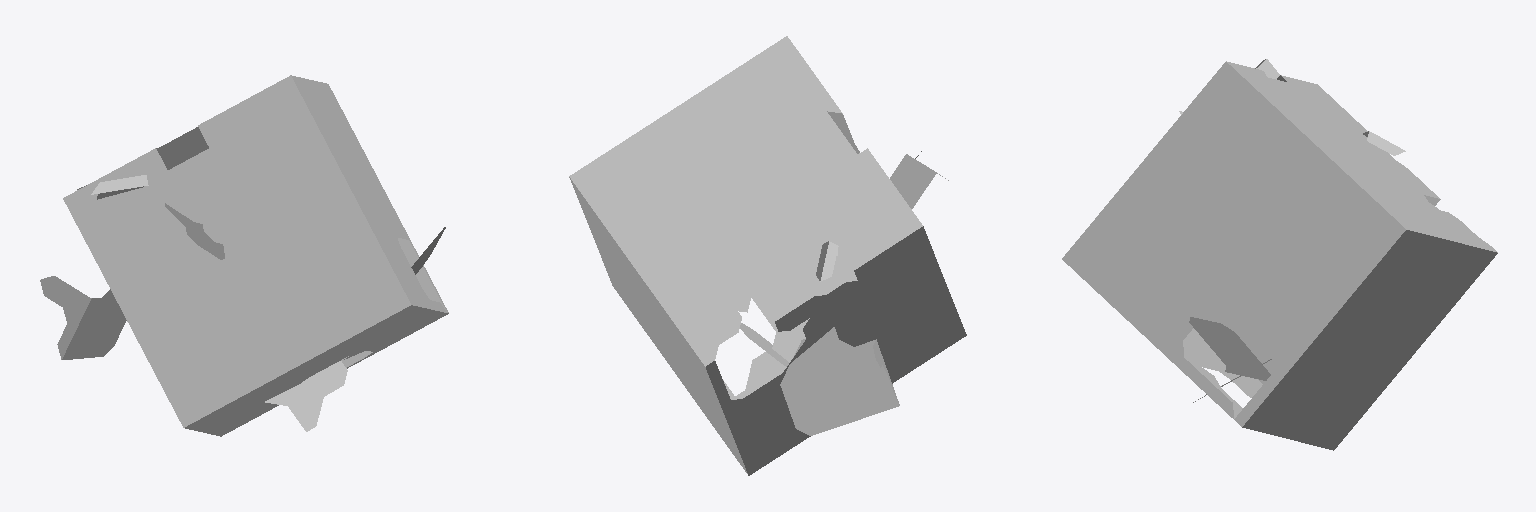
The model's file is explode_000010.obj.
3 renders of one model, left to right at view 1: azimuth 30°, elevation 25°; view 2: azimuth 150°, elevation 25°; view 3: azimuth 270°, elevation 25°, orthographic.
Visible parts, largest first — view 1: Cube_Cube.001; view 2: Cube_Cube.001; view 3: Cube_Cube.001.
Boxes of the visible parts, x1,y1,x2,y2 form: Cube_Cube.001: [40, 75, 448, 436]; Cube_Cube.001: [569, 36, 966, 475]; Cube_Cube.001: [1062, 59, 1497, 450].
Size of the model in its own units: 3.09 by 3.36 by 3.35.